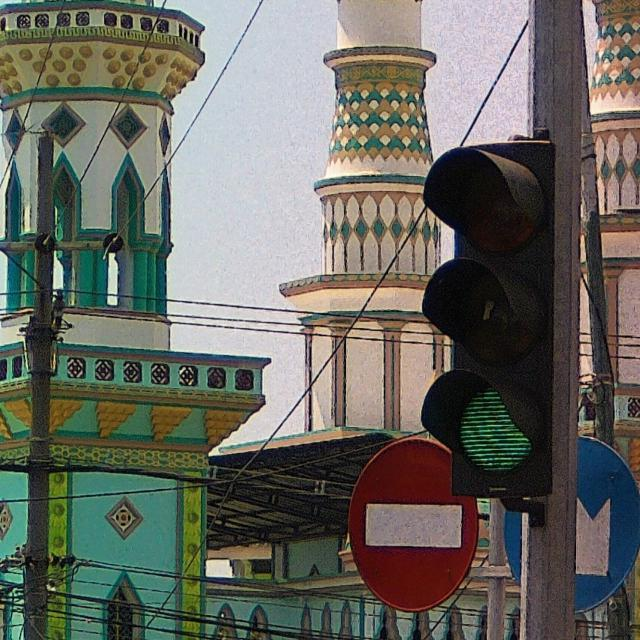green light: (420, 138, 551, 493)
